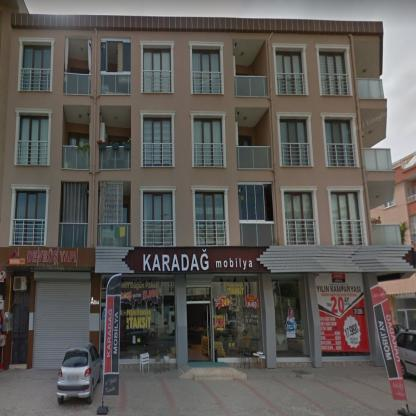door: (186, 284, 213, 360), (11, 291, 30, 364)
window: (14, 192, 45, 244), (331, 193, 362, 244), (143, 192, 173, 244), (196, 192, 226, 244), (284, 192, 314, 244), (19, 116, 48, 165), (238, 183, 274, 221), (280, 119, 309, 166), (194, 118, 222, 166), (325, 120, 354, 166), (144, 118, 171, 166), (22, 45, 50, 90), (192, 50, 221, 92), (319, 52, 347, 93), (144, 50, 170, 92), (276, 52, 303, 92), (396, 298, 416, 332), (68, 132, 89, 145), (123, 39, 130, 72), (101, 38, 106, 72), (238, 135, 252, 146), (384, 196, 395, 208), (70, 69, 89, 74)
